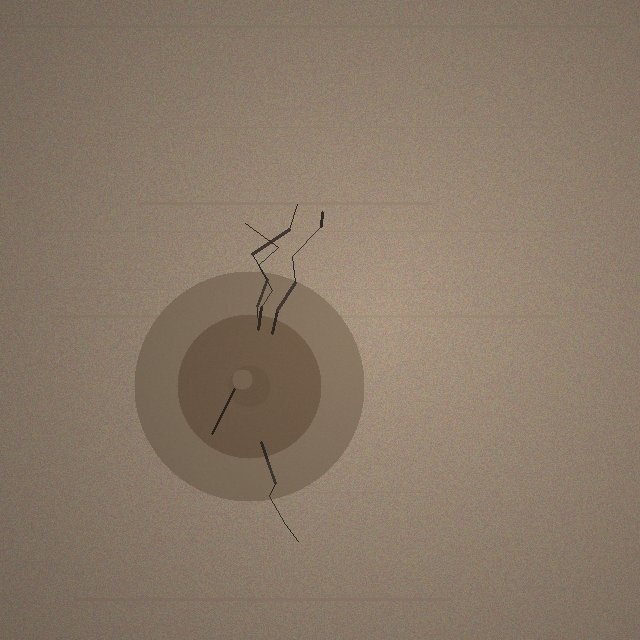crack: (134, 271, 364, 501)
